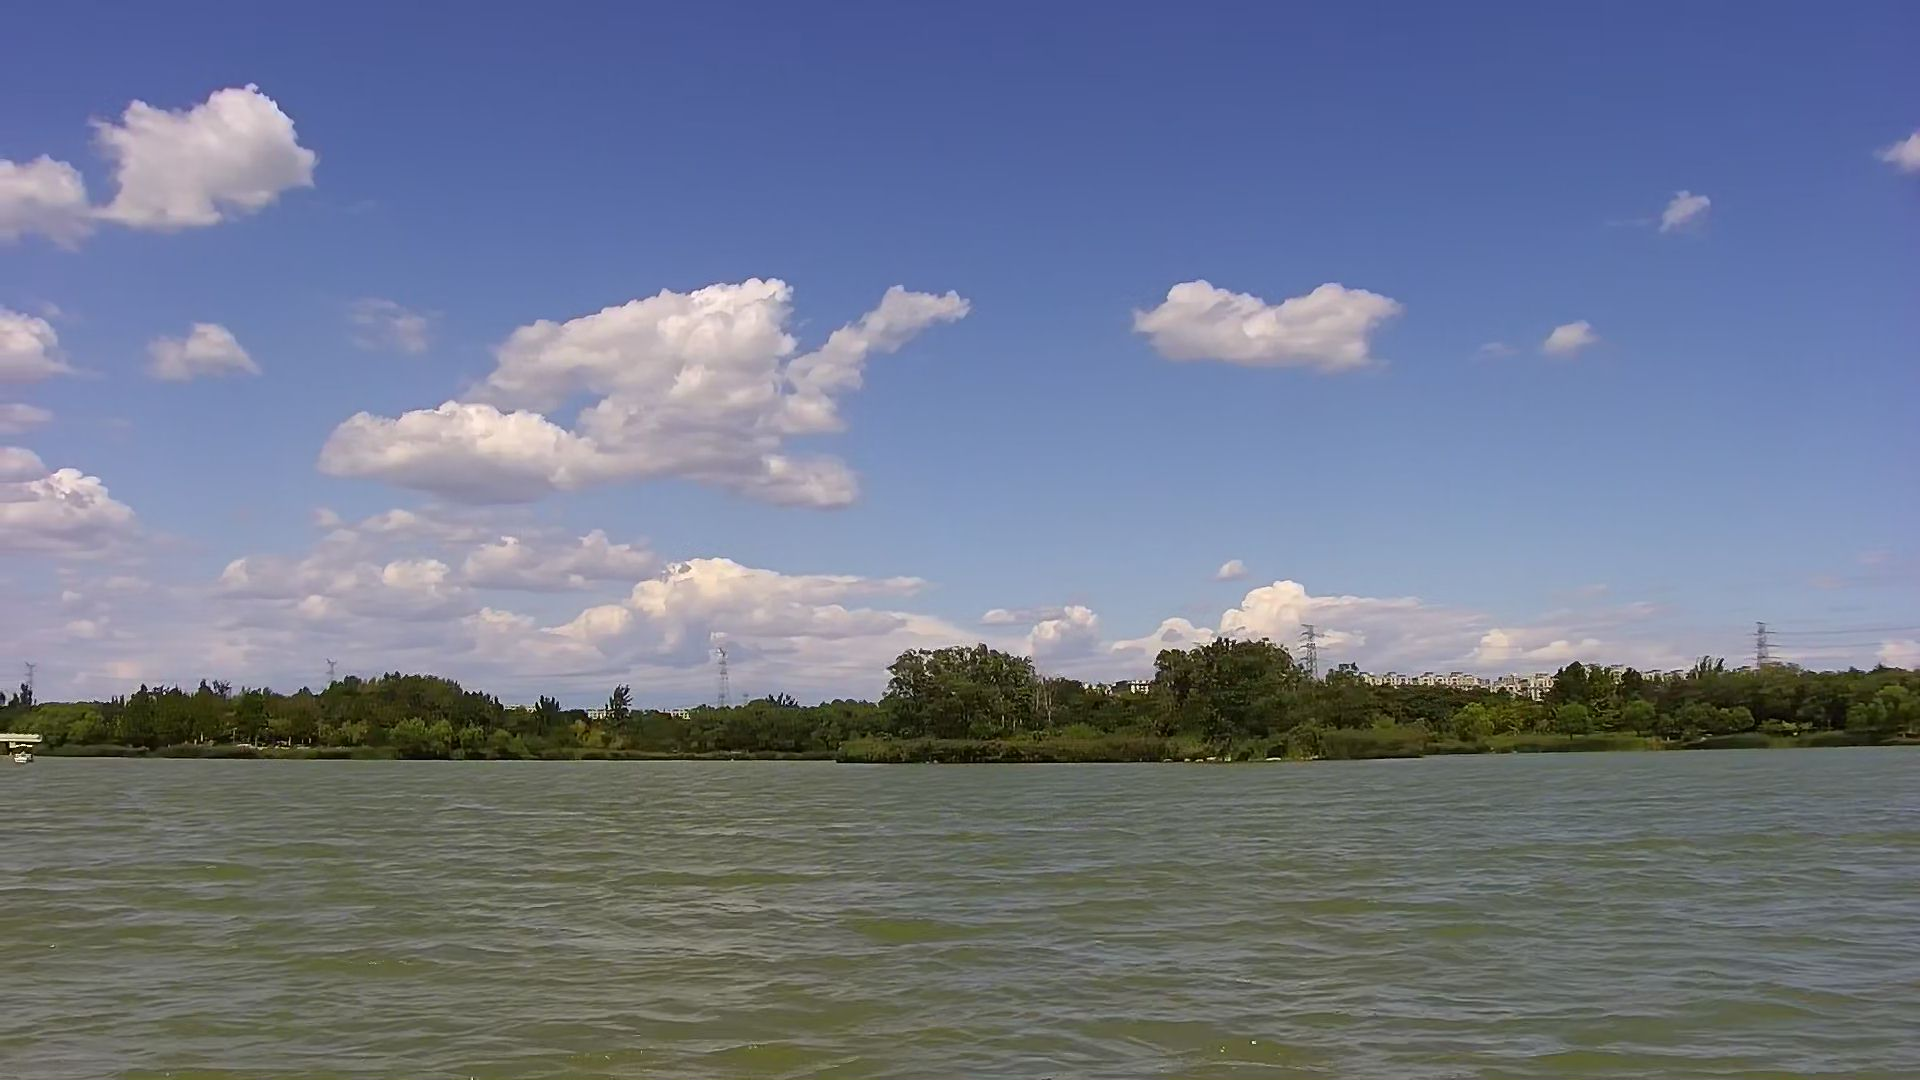boat: (13, 742, 37, 770)
bridge: (1, 727, 45, 760)
